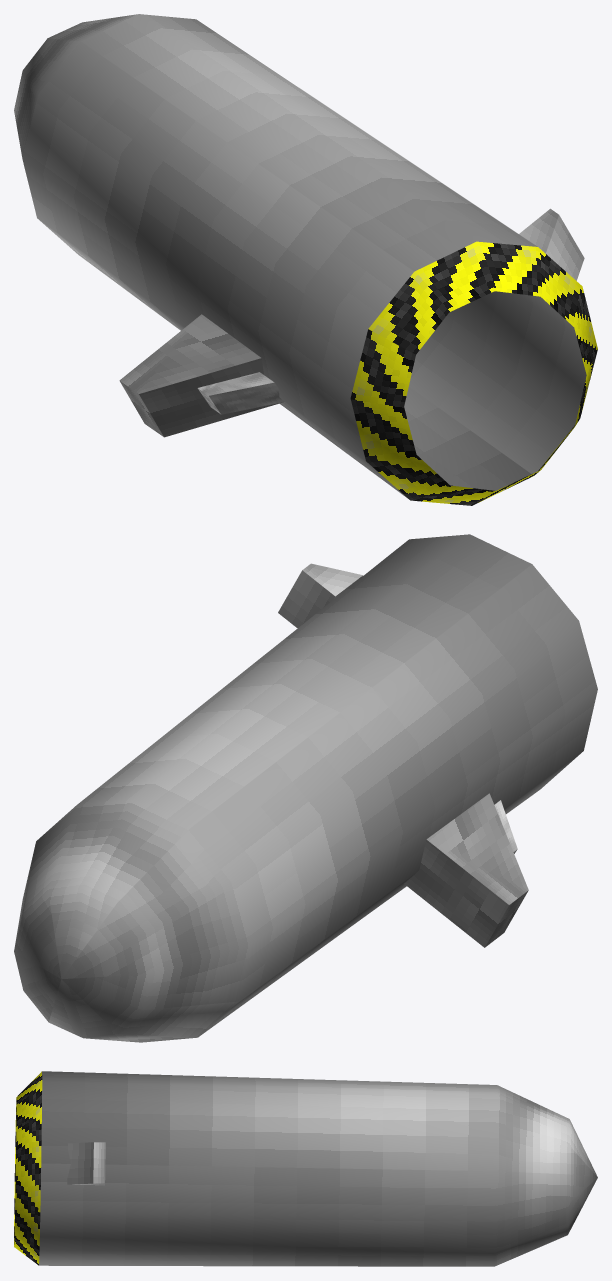
File: rocketlauncher.obj
The picture shows the model from 3 angles, top to bottom: view 1: azimuth 30°, elevation 25°; view 2: azimuth 150°, elevation 25°; view 3: azimuth 270°, elevation 25°; orthographic projection. The views are drawn at different scales.
Parts seen in each view (by area): view 1: Cylinder01, Duplicate01, Box01, Duplicate03, Duplicate02; view 2: Cylinder01, Box01, Duplicate02; view 3: Cylinder01, Duplicate01, Duplicate02.
Part boxes in pixels (x1=…): Cylinder01: x1=14, y1=14, x2=586, y2=499; Duplicate01: x1=350, y1=241, x2=597, y2=505; Box01: x1=119, y1=314, x2=282, y2=437; Duplicate03: x1=197, y1=372, x2=284, y2=414; Duplicate02: x1=519, y1=208, x2=584, y2=280; Cylinder01: x1=14, y1=534, x2=597, y2=1042; Box01: x1=404, y1=793, x2=528, y2=947; Duplicate02: x1=278, y1=563, x2=362, y2=628; Cylinder01: x1=39, y1=1071, x2=597, y2=1266; Duplicate01: x1=14, y1=1071, x2=42, y2=1265; Duplicate02: x1=67, y1=1142, x2=105, y2=1185.
Size of the model in its own units: 16.82 by 12.27 by 36.66.
